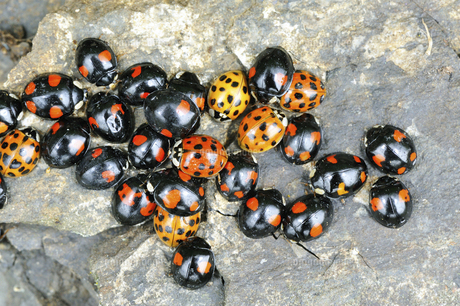red: (170, 136, 228, 177), (237, 106, 287, 152), (206, 68, 248, 120), (0, 127, 42, 177)
two_spots: (310, 152, 368, 200), (143, 89, 199, 138), (282, 193, 334, 243), (43, 116, 91, 169), (367, 175, 414, 229), (248, 46, 293, 102), (86, 91, 134, 143), (77, 145, 132, 189), (170, 236, 214, 290), (237, 188, 284, 238), (76, 37, 119, 87)
two_spots_mutant: (21, 72, 85, 120), (363, 124, 417, 176), (155, 169, 207, 216), (217, 150, 259, 202), (281, 112, 323, 163)
